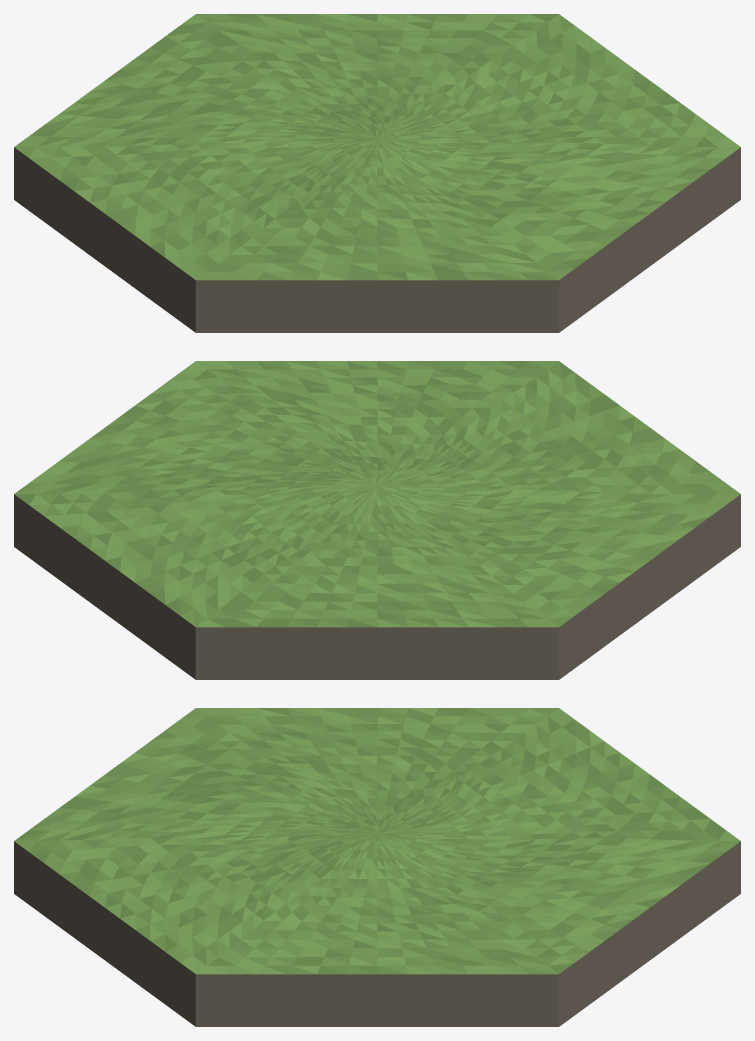
Rendered from TERRAIN_GRASS_v01.fbx.
The picture shows the model from 3 angles, top to bottom: view 1: azimuth 30°, elevation 25°; view 2: azimuth 150°, elevation 25°; view 3: azimuth 270°, elevation 25°; orthographic projection.
Visible parts, largest first — view 1: TERRAIN_GRASS_v01; view 2: TERRAIN_GRASS_v01; view 3: TERRAIN_GRASS_v01.
Part boxes in pixels (left/top/right/bottom): TERRAIN_GRASS_v01: left=14, top=14, right=740, bottom=332; TERRAIN_GRASS_v01: left=14, top=361, right=740, bottom=679; TERRAIN_GRASS_v01: left=14, top=708, right=740, bottom=1026.
Bounding box in the file's own units: 173 × 18.57 × 200.
